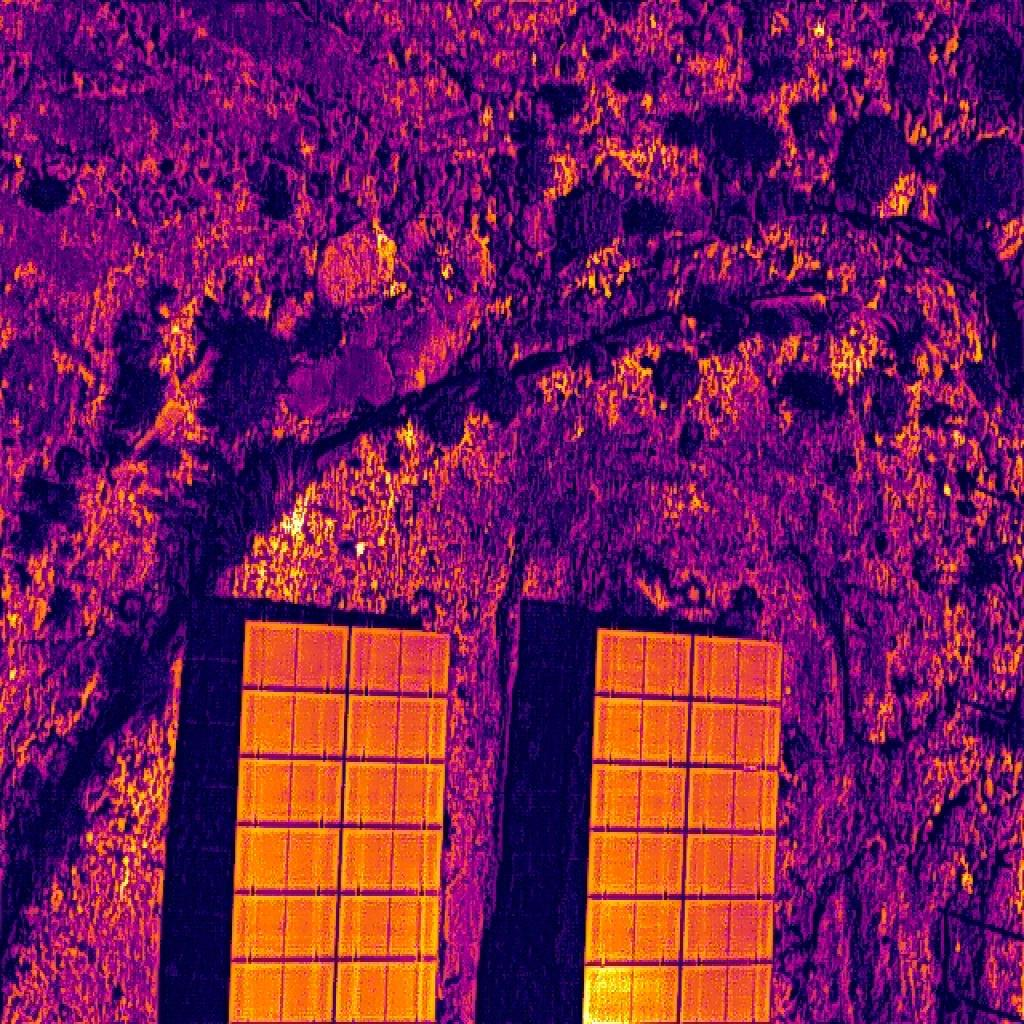panel: (243, 621, 349, 695), (339, 826, 444, 896)
